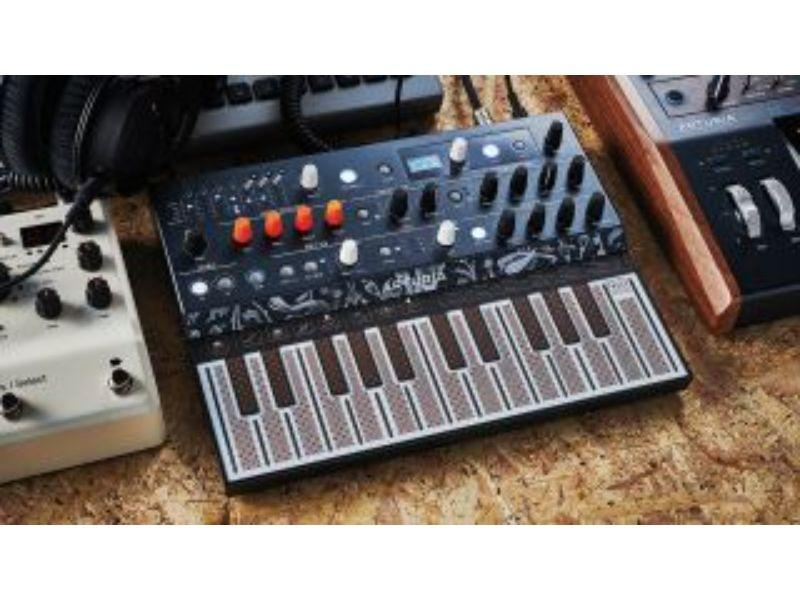synthesizer: (146, 123, 683, 467)
